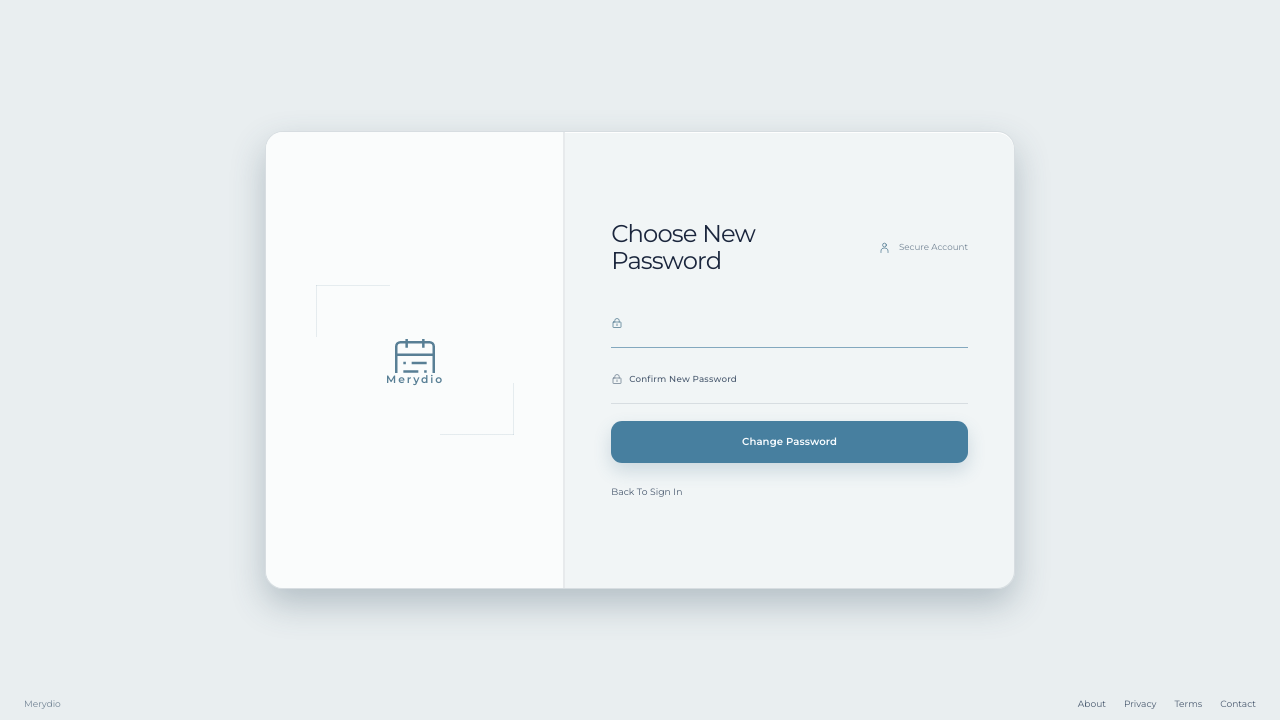
Test case: account recovery screens › uses a reset link once and returns to sign in
Expected: the heading "Choose New Password" is shown, [611,218,755,275]
Type "eight888" into the password field named "New Password".
click(790, 326); type("eight888")  # box [611,305,968,347]
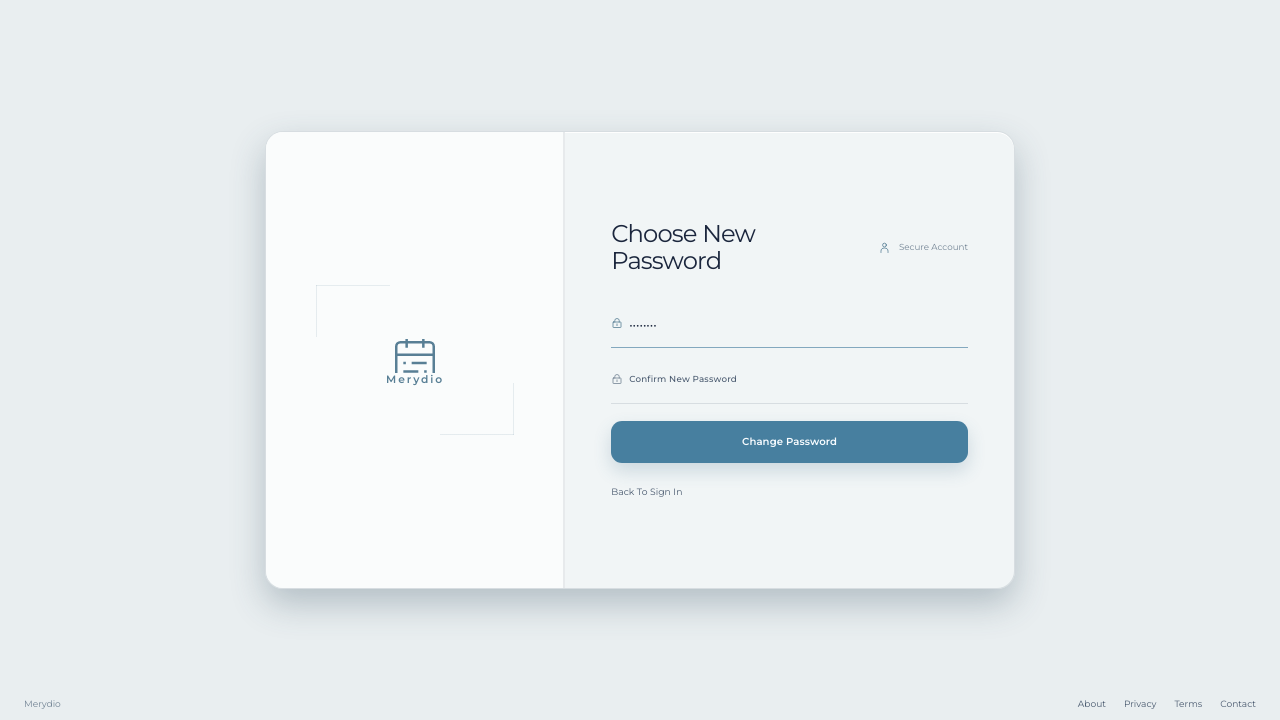
Type "eight888" into the password field labelled "Confirm New Password".
click(790, 382); type("eight888")  # box [611,361,968,403]
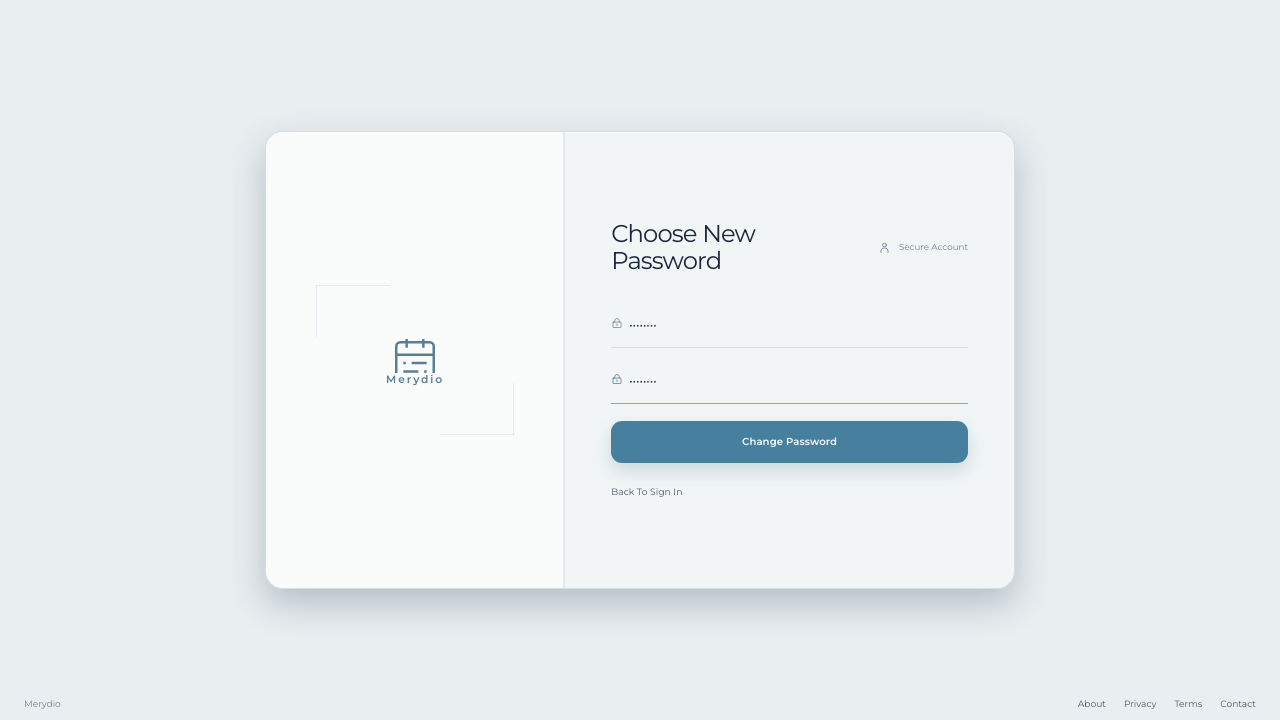
Click the button "Change Password".
click(790, 442)  # box [611,421,968,463]
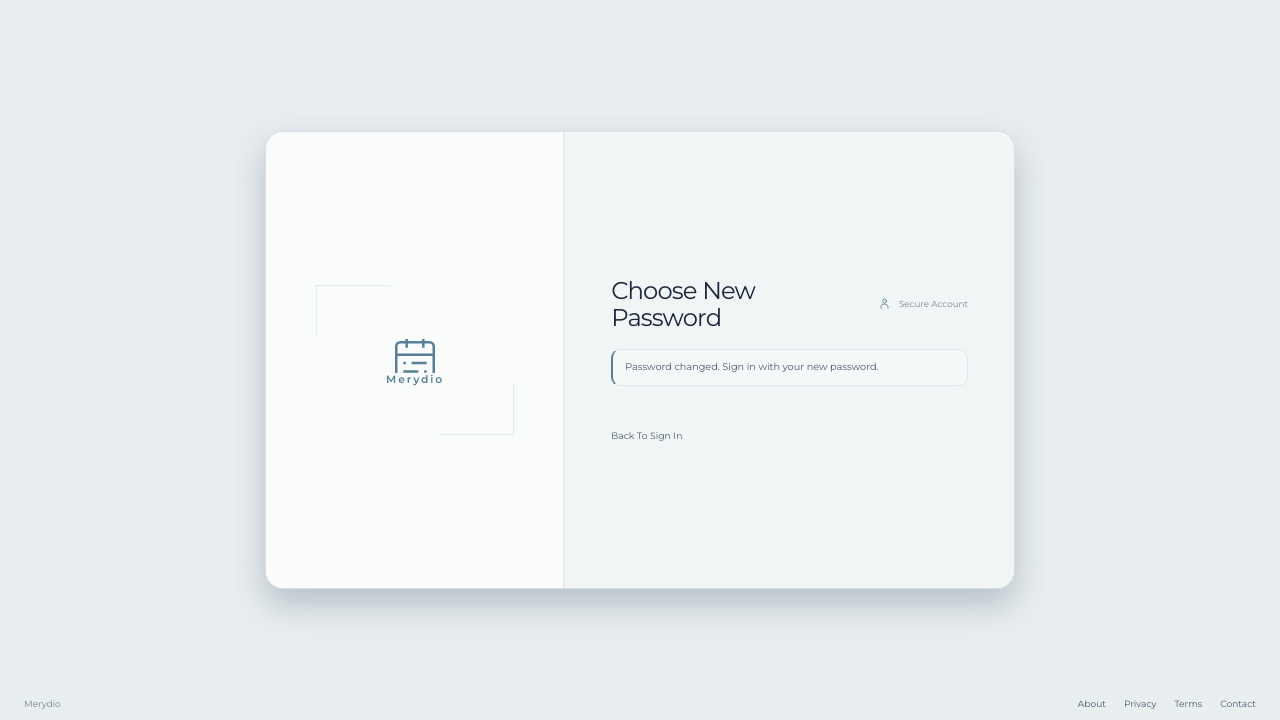
Expected: the text "Password changed. Sign in with your new password." is shown, [611,349,968,386]
Click the button "Back To Sign In".
click(647, 436)  # box [611,426,682,445]
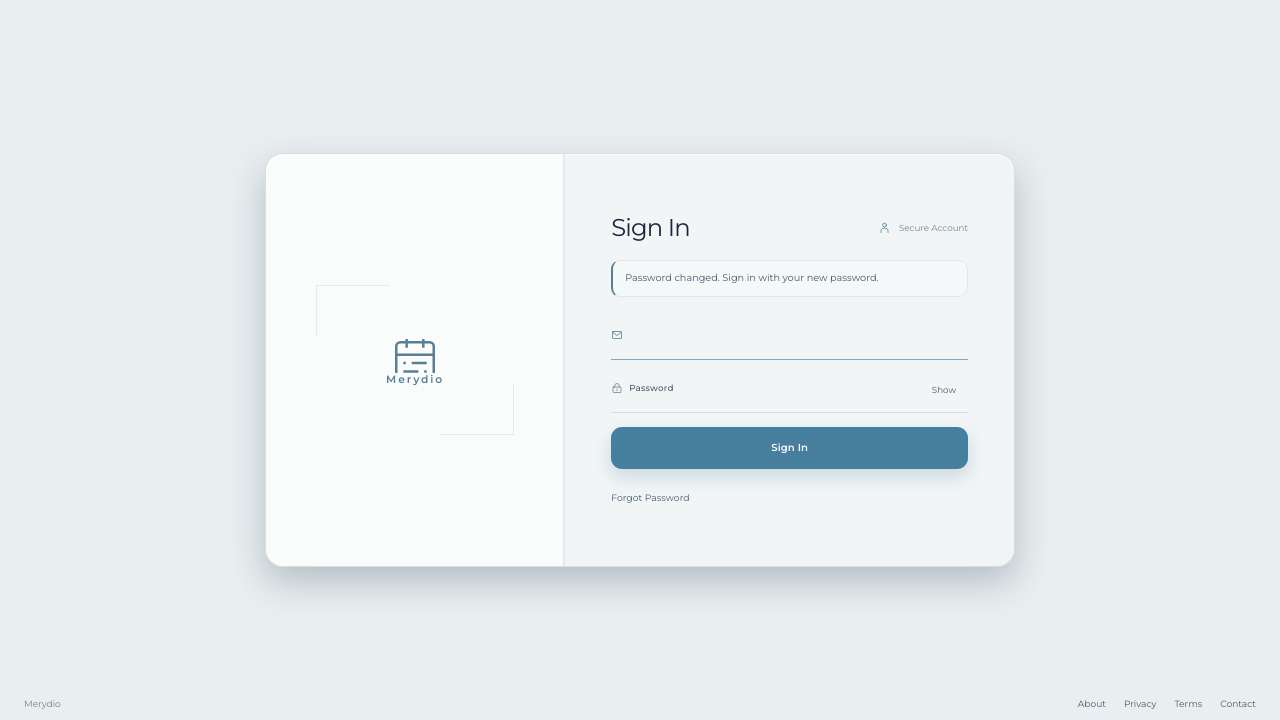
Expected: the heading "Sign In" is shown, [611,212,690,242]
